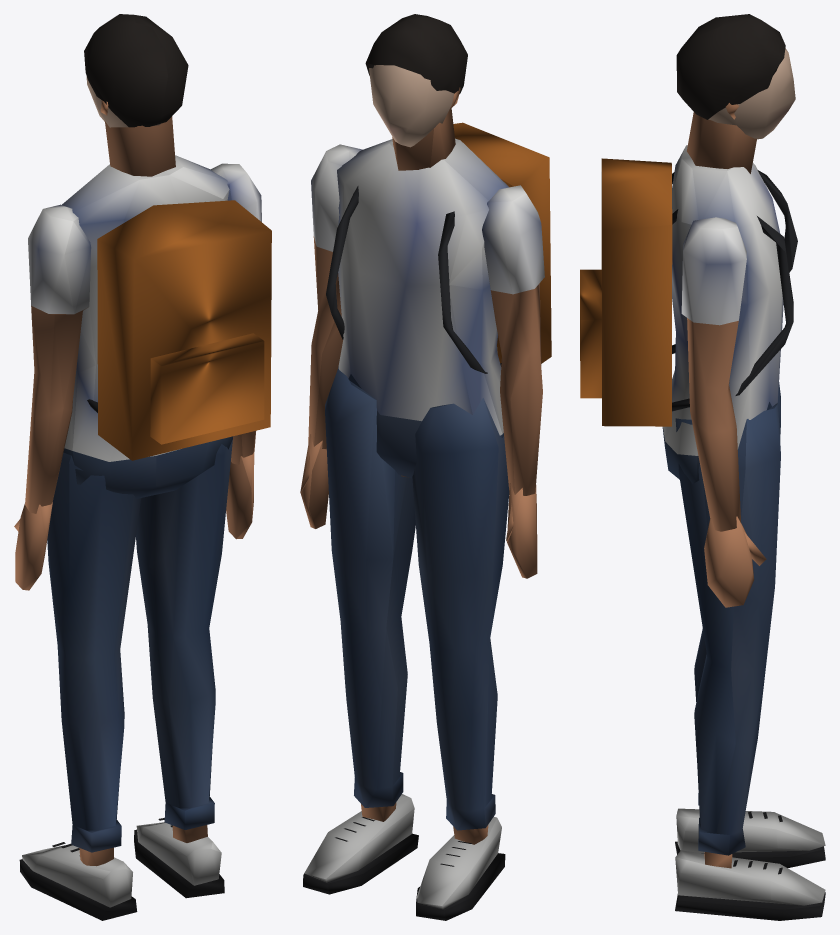
The model's file is crowd_backpack_lod0.glb.
3 views of the same model, side by side, from view 1: azimuth 30°, elevation 25°; view 2: azimuth 150°, elevation 25°; view 3: azimuth 270°, elevation 25° (orthographic).
Visible parts, largest first — view 1: crowd_backpack_lod0; view 2: crowd_backpack_lod0; view 3: crowd_backpack_lod0.
Part boxes in pixels (<box>): crowd_backpack_lod0: <box>14,14,271,920</box>; crowd_backpack_lod0: <box>300,14,551,920</box>; crowd_backpack_lod0: <box>580,14,825,920</box>.
Size of the model in its own units: 0.4949 by 1.77 by 0.4576.
